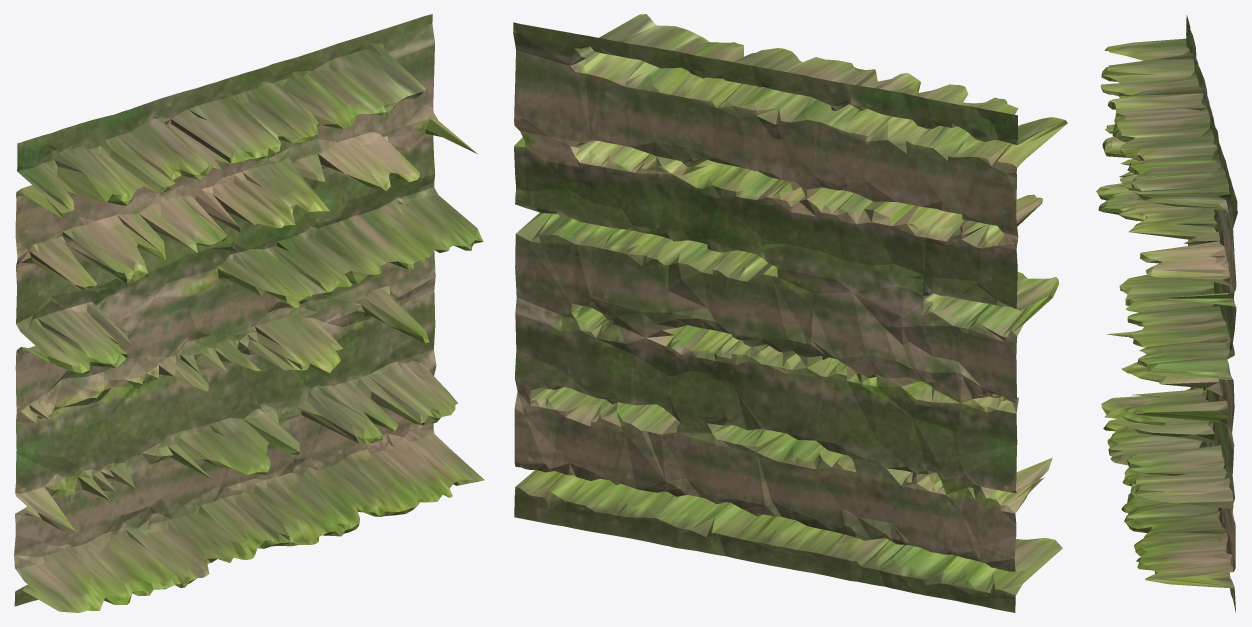
Rendered from map_120_40.obj.
3 renders of one model, left to right at view 1: azimuth 30°, elevation 25°; view 2: azimuth 150°, elevation 25°; view 3: azimuth 270°, elevation 25°, orthographic. The views are drawn at different scales.
Visible parts, largest first — view 1: grp1; view 2: grp1; view 3: grp1.
Boxes of the visible parts, x1,y1,x2,y2 form: grp1: [14, 14, 484, 612]; grp1: [513, 14, 1067, 612]; grp1: [1096, 15, 1237, 612].
Size of the model in its own units: 10 by 10 by 3.15.
1 material, 1 textured.
